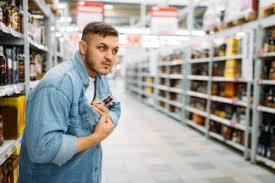shoplifting: (73, 82, 126, 151)
